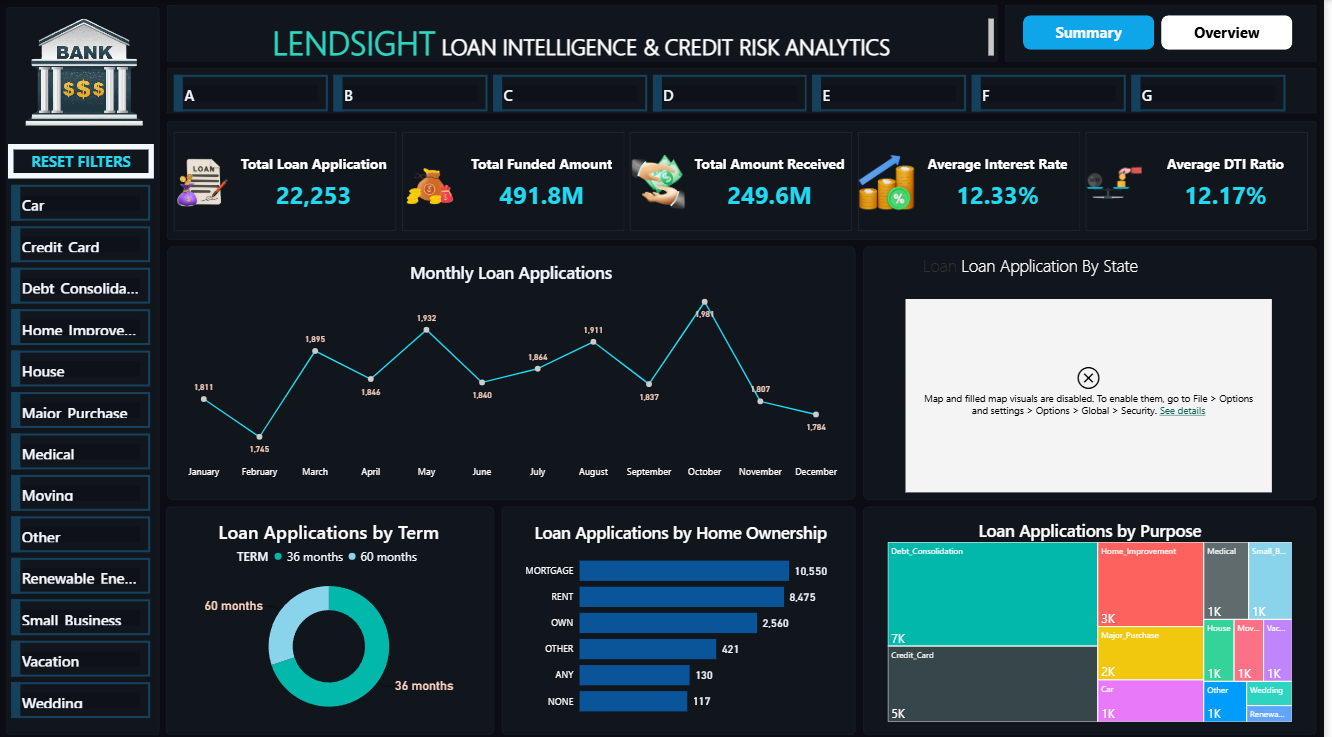

This screenshot's page, from the dashboard's own definition file:
{"tool":"powerbi","page":{"name":"Overview","canvas":[1920,1080],"ordinal":1},"visuals":[{"type":"cardVisual","fields":{"Data":["financial_loan.Total Loan Application","financial_loan.Total Funded Amount","financial_loan.Total Amount Received","financial_loan.Average Interest Rate","financial_loan.Average DTI Rate"]},"box":[250,187.8,1653.3,153.3],"z":0},{"type":"image","box":[0,0,250,210],"z":1000},{"type":"textbox","box":[250,24.3,1197.1,68.6],"z":2000},{"type":"lineChart","title":"Monthly Loan Applications","fields":{"Category":["financial_loan.ISSUE_DATE.Variation.Date Hierarchy.Month"],"Y":["financial_loan.Total Loan Application"]},"box":[250,365.7,985.7,348.6],"z":3000},{"type":"donutChart","title":"Loan Applications by Term","fields":{"Category":["financial_loan.TERM"],"Y":["financial_loan.Total Loan Application"]},"box":[250,738.6,458.6,328.6],"z":4000},{"type":"clusteredBarChart","title":"Loan Applications by Home Ownership","fields":{"Category":["financial_loan.HOME_OWNERSHIP"],"Y":["financial_loan.Total Loan Application"]},"box":[742.9,741.4,492.9,321.4],"z":5000},{"type":"treemap","title":"Loan Applications by Purpose","fields":{"Group":["financial_loan.PURPOSE"],"Values":["financial_loan.Total Loan Application"]},"box":[1271.4,738.6,617.1,324.3],"z":6000},{"type":"advancedSlicerVisual","fields":{"Values":["financial_loan.PURPOSE"]},"box":[14.5,264.2,211.7,789],"z":7000},{"type":"advancedSlicerVisual","fields":{"Values":["financial_loan.GRADE"]},"box":[249.7,105,1625.1,63.3],"z":8000},{"type":"actionButton","box":[14.5,209.9,211.4,50],"z":9000},{"type":"pageNavigator","box":[1483.9,23.5,390.9,50.7],"z":10000},{"type":"map","fields":{"Category":["financial_loan.ADDRESS_STATE"],"Size":["financial_loan.Total Loan Application"]},"box":[1314,434,530,280],"z":11000},{"type":"textbox","box":[1334,366,346,48],"z":12000}]}

Visuals, with their boxes in screenshot pixels (x1, y1, x2, y2), scaled from the page's 1920x1080 canvas onto the 1332x737 screenshot:
cardVisual - financial_loan.Total Loan Application x financial_loan.Total Funded Amount: bbox=[173, 128, 1320, 233]
image: bbox=[0, 0, 173, 143]
textbox: bbox=[173, 17, 1004, 63]
"Monthly Loan Applications" lineChart: bbox=[173, 250, 857, 487]
"Loan Applications by Term" donutChart: bbox=[173, 504, 492, 728]
"Loan Applications by Home Ownership" clusteredBarChart: bbox=[515, 506, 857, 725]
"Loan Applications by Purpose" treemap: bbox=[882, 504, 1310, 725]
advancedSlicerVisual - financial_loan.PURPOSE: bbox=[10, 180, 157, 719]
advancedSlicerVisual - financial_loan.GRADE: bbox=[173, 72, 1301, 115]
actionButton: bbox=[10, 143, 157, 177]
pageNavigator: bbox=[1029, 16, 1301, 51]
map - financial_loan.ADDRESS_STATE x financial_loan.Total Loan Application: bbox=[912, 296, 1279, 487]
textbox: bbox=[925, 250, 1166, 283]
